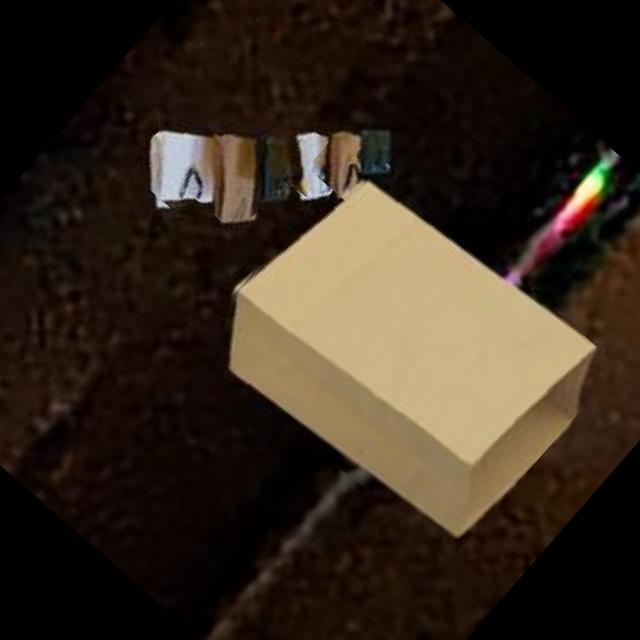PaperCardboard: (229, 182, 596, 539), (153, 129, 219, 200), (215, 139, 257, 220), (300, 139, 334, 197), (333, 135, 365, 194)
